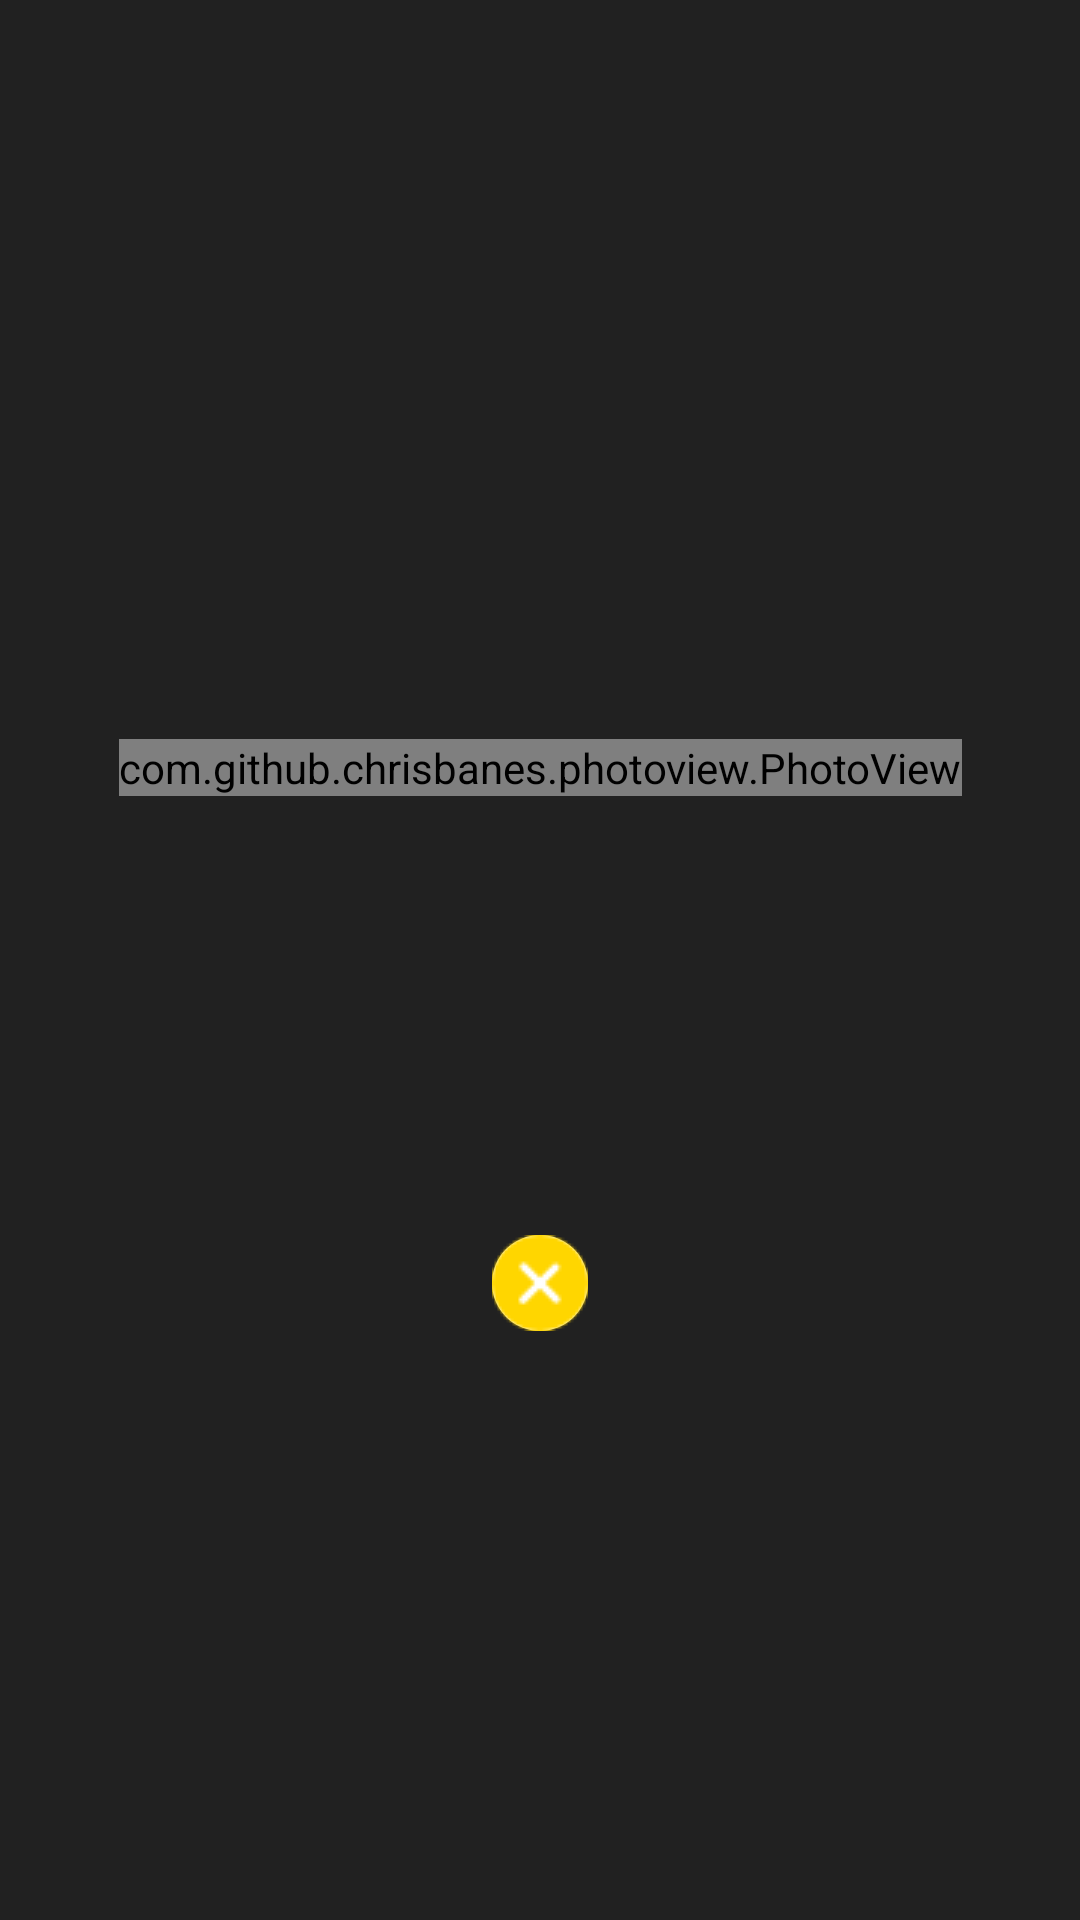

Where to tap for icons on this 1080*1920 app screen, as (x=x, y=y):
close: (x=540, y=1283)
